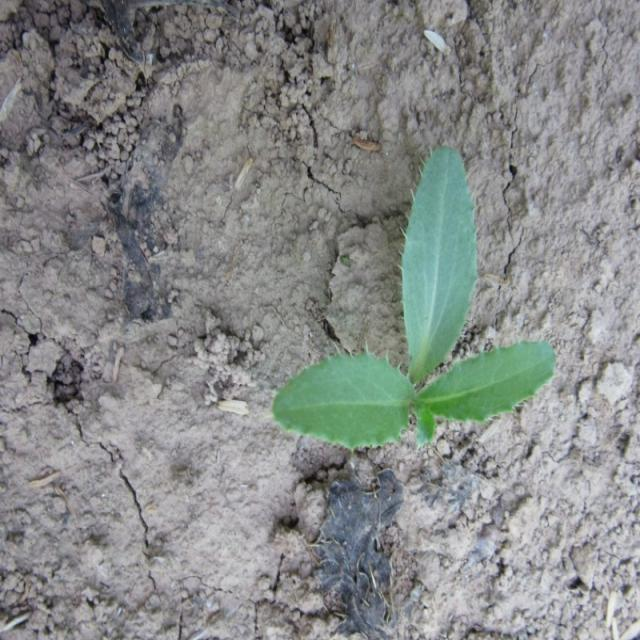field_thistle: (266, 132, 557, 494)
